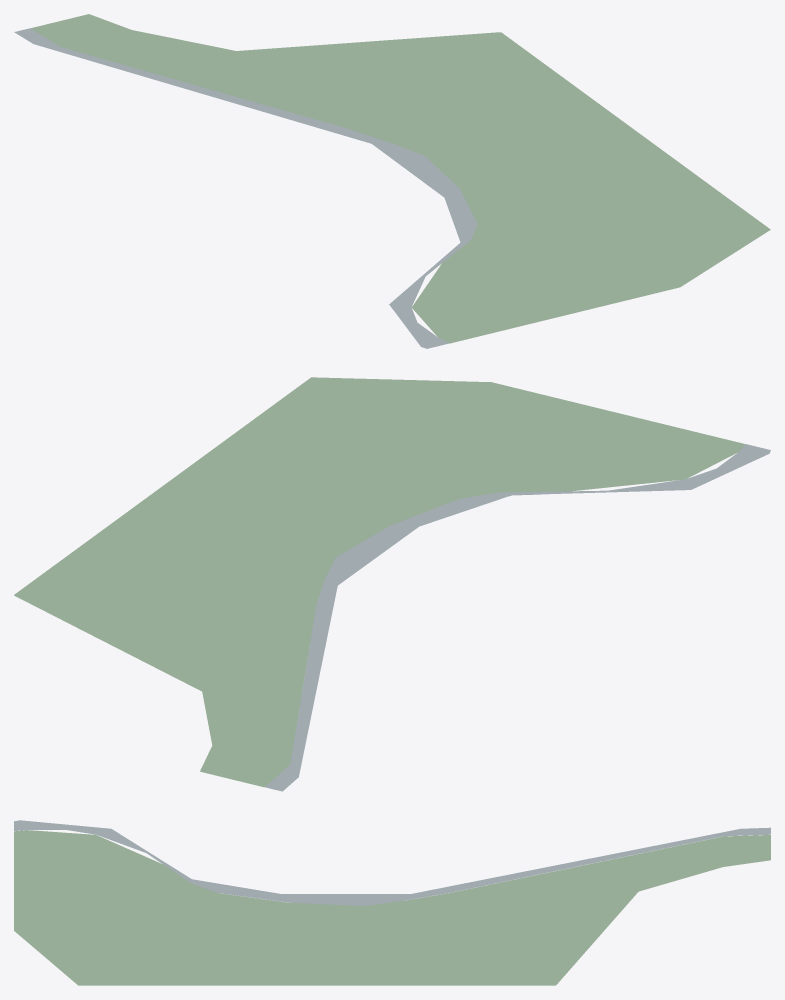
Rendered from 100_87_mid.glb.
The picture shows the model from 3 angles, top to bottom: view 1: azimuth 30°, elevation 25°; view 2: azimuth 150°, elevation 25°; view 3: azimuth 270°, elevation 25°; orthographic projection. The views are drawn at different scales.
Bounding box in the file's own units: 258 × 0.11 × 500.
